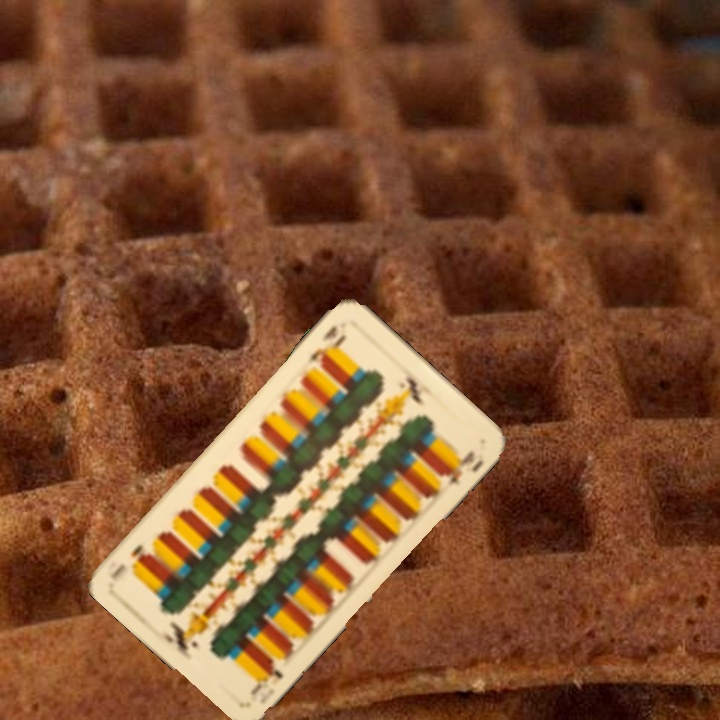E10: (303, 321, 348, 368), (247, 656, 286, 698)
